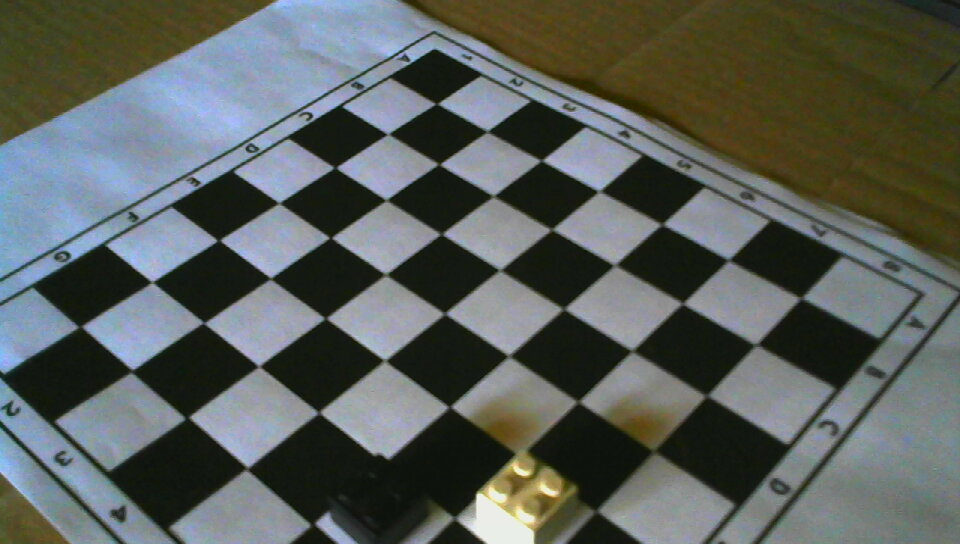bp: (329, 452, 431, 544)
wp: (476, 450, 578, 543)
